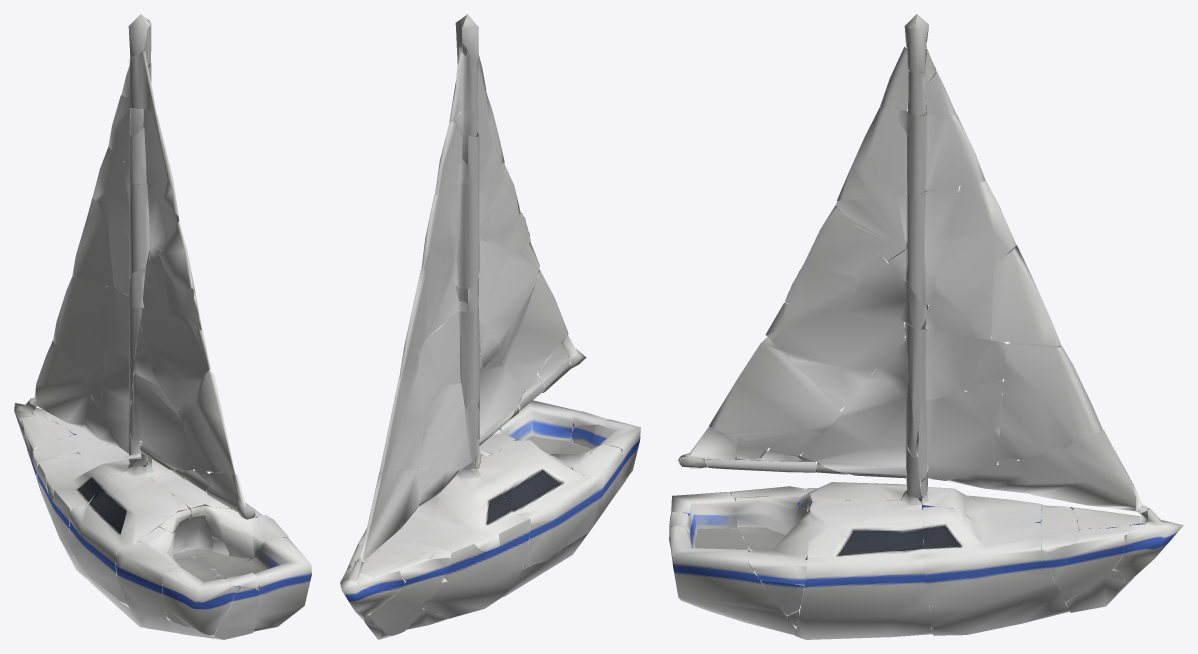
Rendered from sailboat.fbx.
3 views of the same model, side by side, from view 1: azimuth 30°, elevation 25°; view 2: azimuth 150°, elevation 25°; view 3: azimuth 270°, elevation 25° (orthographic). The views are drawn at different scales.
Parts seen in each view (by area): view 1: SAILBOAT; view 2: SAILBOAT; view 3: SAILBOAT.
Part boxes in pixels (bbox=[...]): SAILBOAT: bbox=[14, 14, 311, 639]; SAILBOAT: bbox=[340, 14, 640, 639]; SAILBOAT: bbox=[669, 14, 1183, 639].
Size of the model in its own units: 0.2909 by 1 by 0.7754.
Materials: 1 (1 with a texture image).
